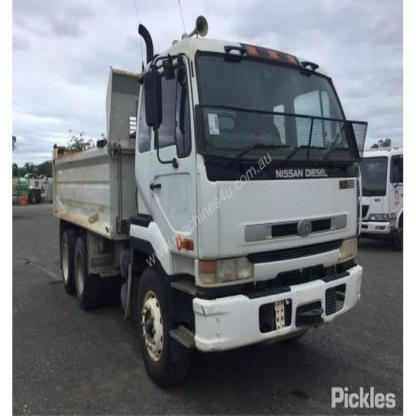dump_truck: (46, 11, 364, 383)
